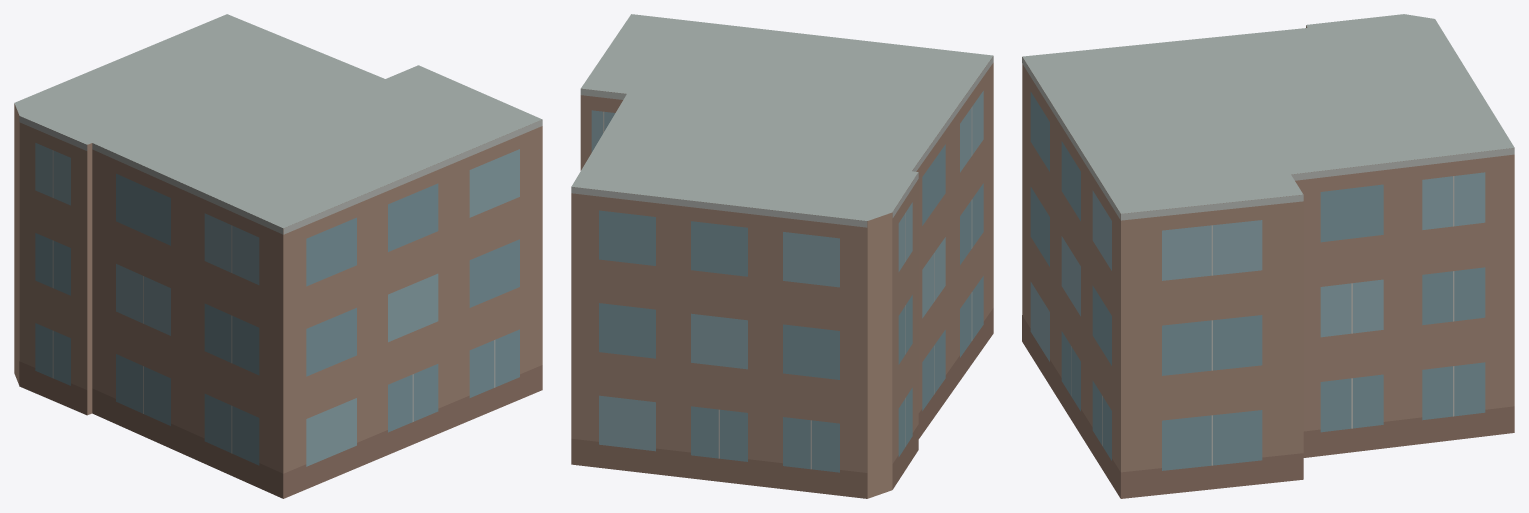
The model's file is survey-upis-32909467.glb.
The picture shows the model from 3 angles, left to right: view 1: azimuth 30°, elevation 25°; view 2: azimuth 150°, elevation 25°; view 3: azimuth 270°, elevation 25°; orthographic projection. The views are drawn at different scales.
Visible parts, largest first — view 1: survey-upis-32909467.tmp; view 2: survey-upis-32909467.tmp; view 3: survey-upis-32909467.tmp.
Part boxes in pixels (x1,y1,x2,y2): survey-upis-32909467.tmp: (14, 14, 542, 498); survey-upis-32909467.tmp: (571, 14, 993, 498); survey-upis-32909467.tmp: (1022, 14, 1514, 498).
Size of the model in its own units: 15.5 by 10.3 by 16.14.
